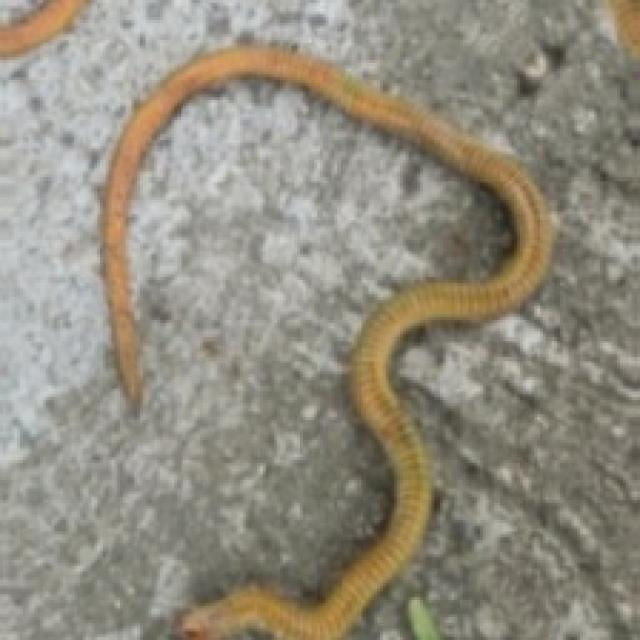gervais worm snake: (103, 46, 551, 637), (0, 0, 88, 56)
